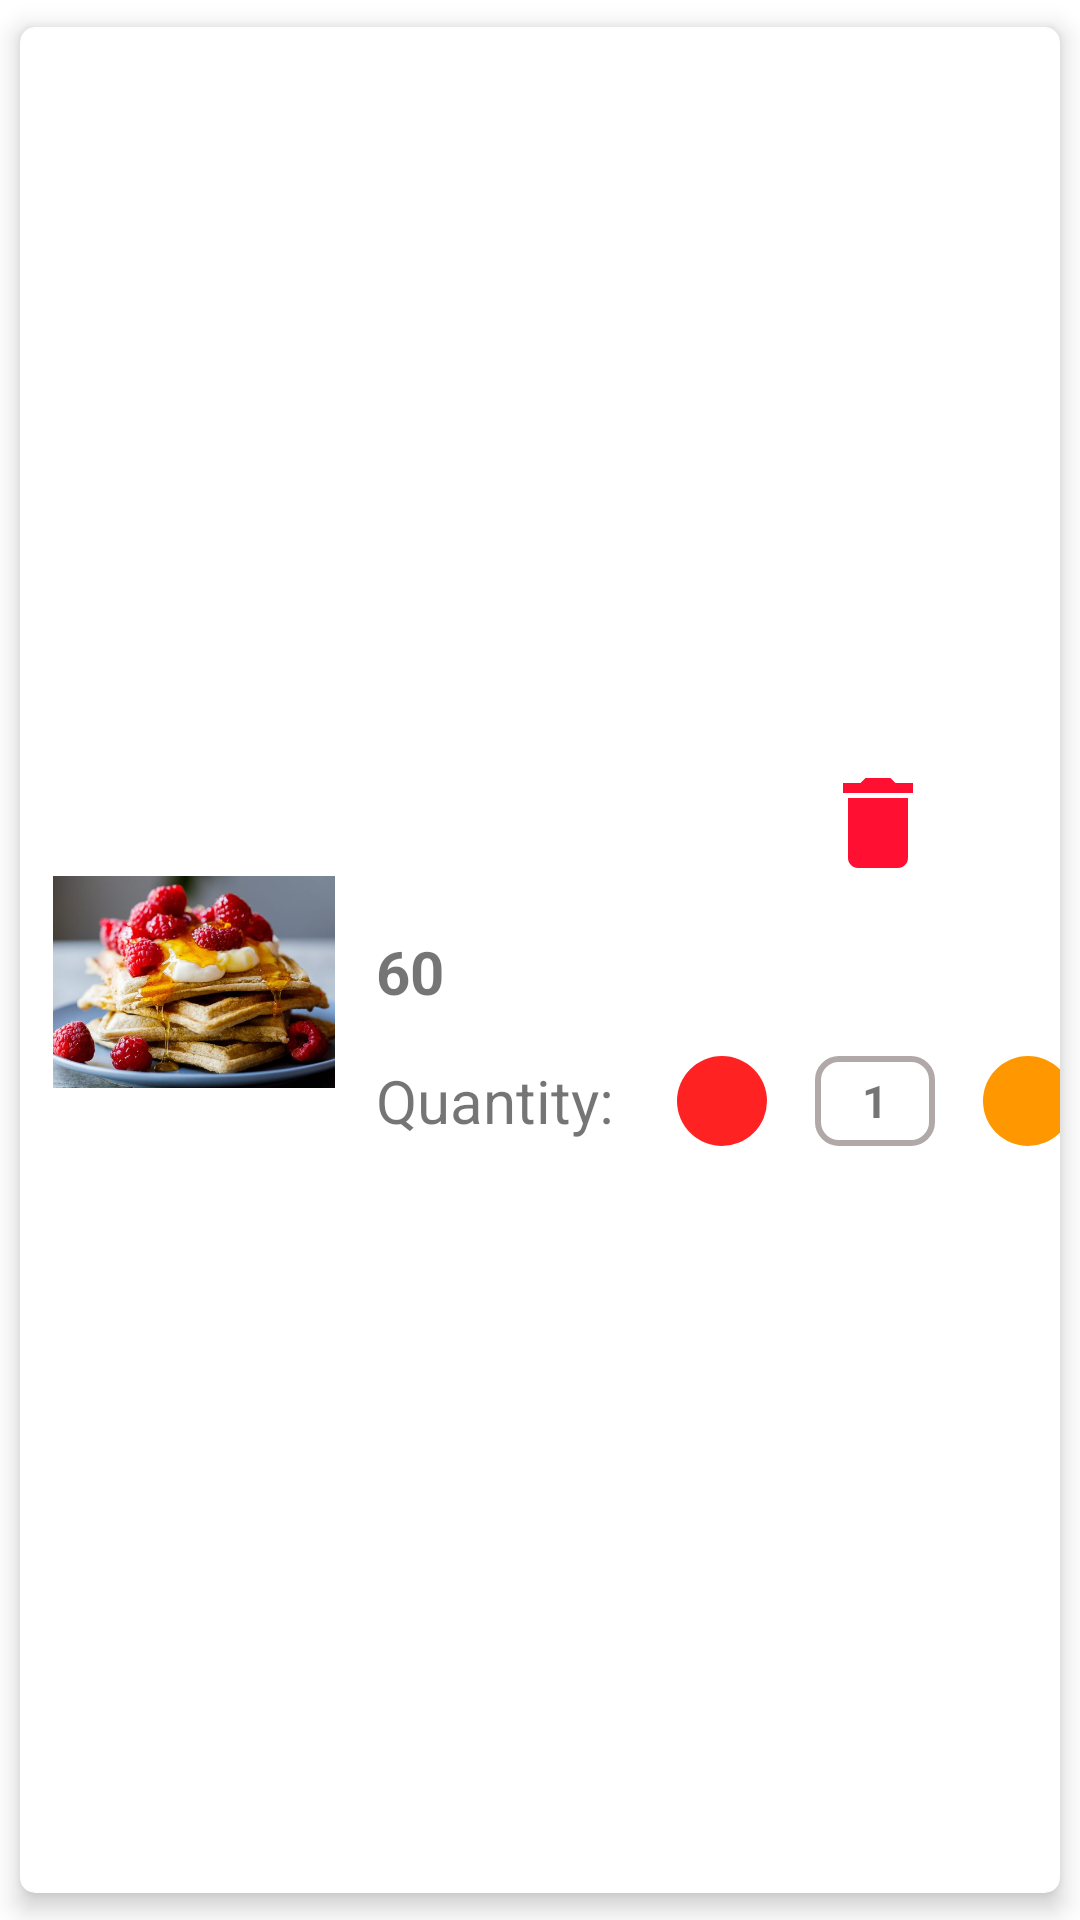

Where to tap for icons on this 1080*1920 app screen, as [x,y]:
breakfast: [194,982]
delete: [878,823]
